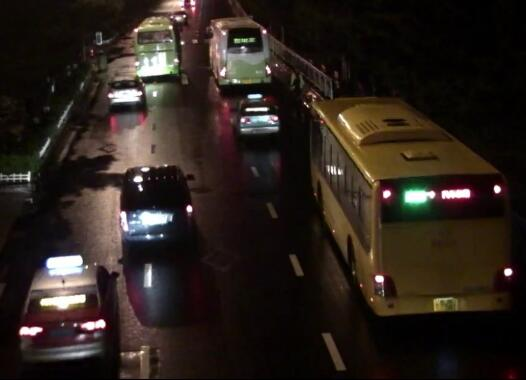bus: (306, 94, 514, 321), (204, 17, 269, 89), (132, 15, 179, 80)
car: (17, 254, 121, 367), (112, 164, 198, 250), (233, 91, 276, 136), (107, 69, 142, 107), (168, 8, 189, 23)
